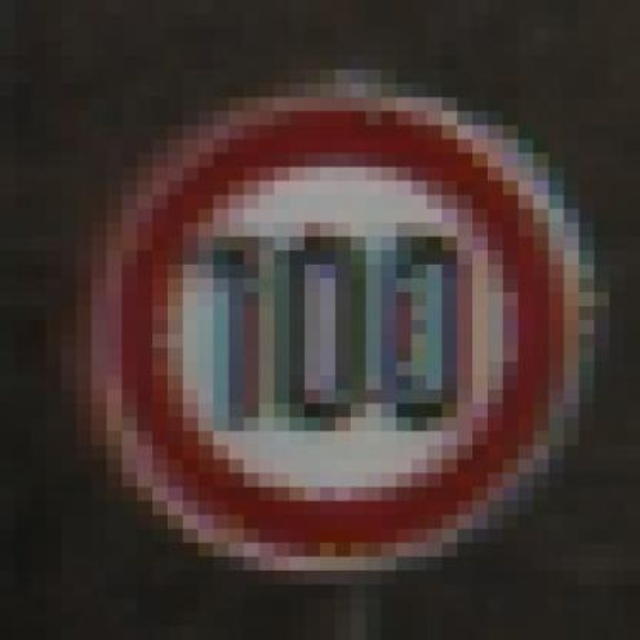Tốc độ tối đa cho phép 100km/h: (103, 102, 564, 561)
